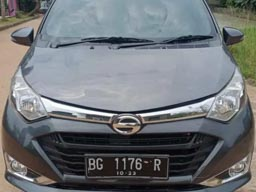plat: (85, 154, 167, 170)
